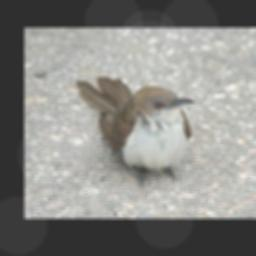Cuckoo: (75, 75, 196, 188)
